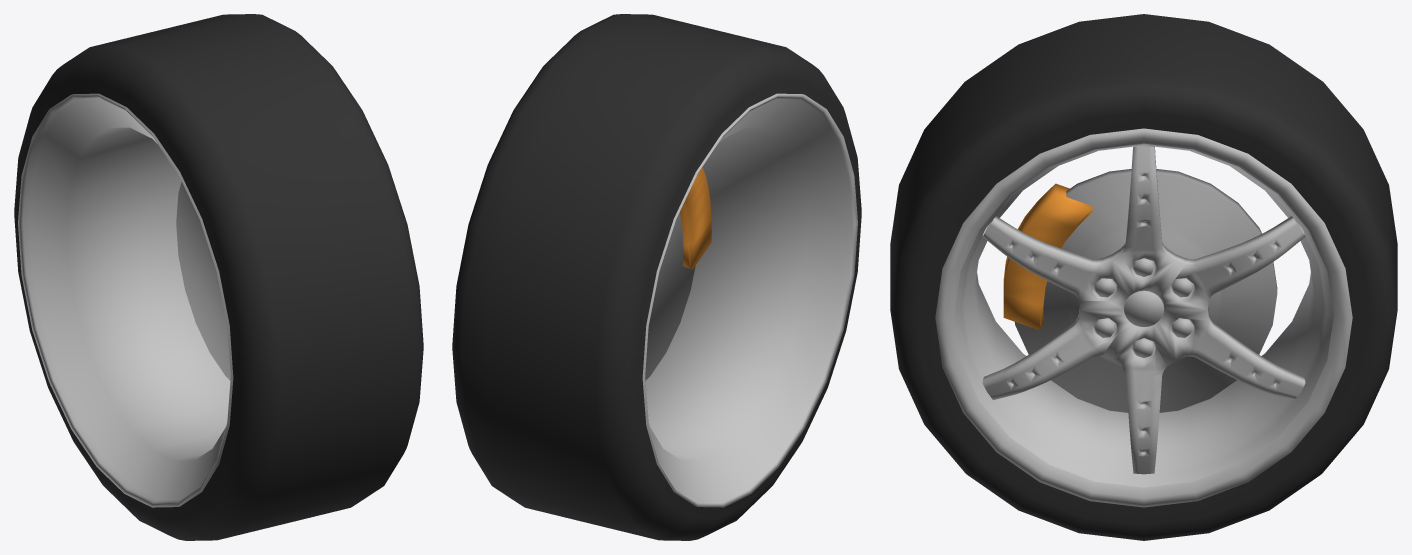
File: Nissan_350Z_single_wheel.glb
3 renders of one model, left to right at view 1: azimuth 30°, elevation 25°; view 2: azimuth 150°, elevation 25°; view 3: azimuth 270°, elevation 25°, orthographic.
Parts seen in each view (by area): view 1: Cube.001; view 2: Cube.001; view 3: Cube.001.
Boxes of the visible parts, bbox=[...] form: Cube.001: bbox=[14, 14, 423, 540]; Cube.001: bbox=[452, 14, 861, 540]; Cube.001: bbox=[890, 14, 1397, 540].
Size of the model in its own units: 0.3053 by 0.7447 by 0.7447.
